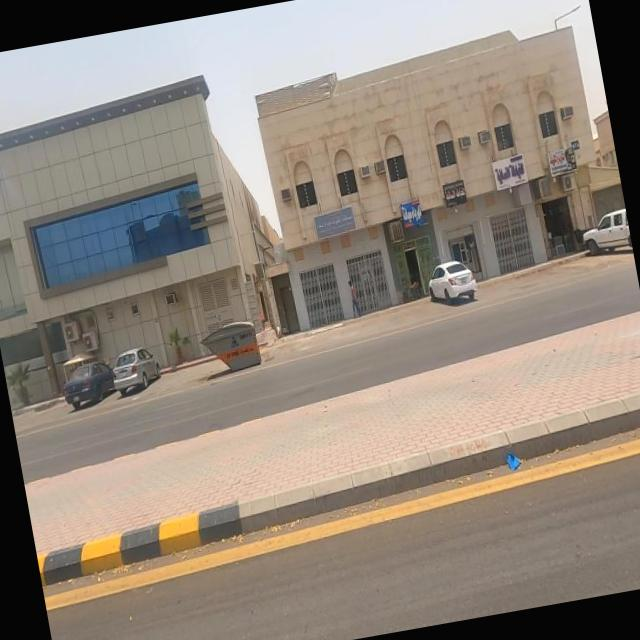debris: (280, 165, 400, 291), (465, 395, 561, 519)
